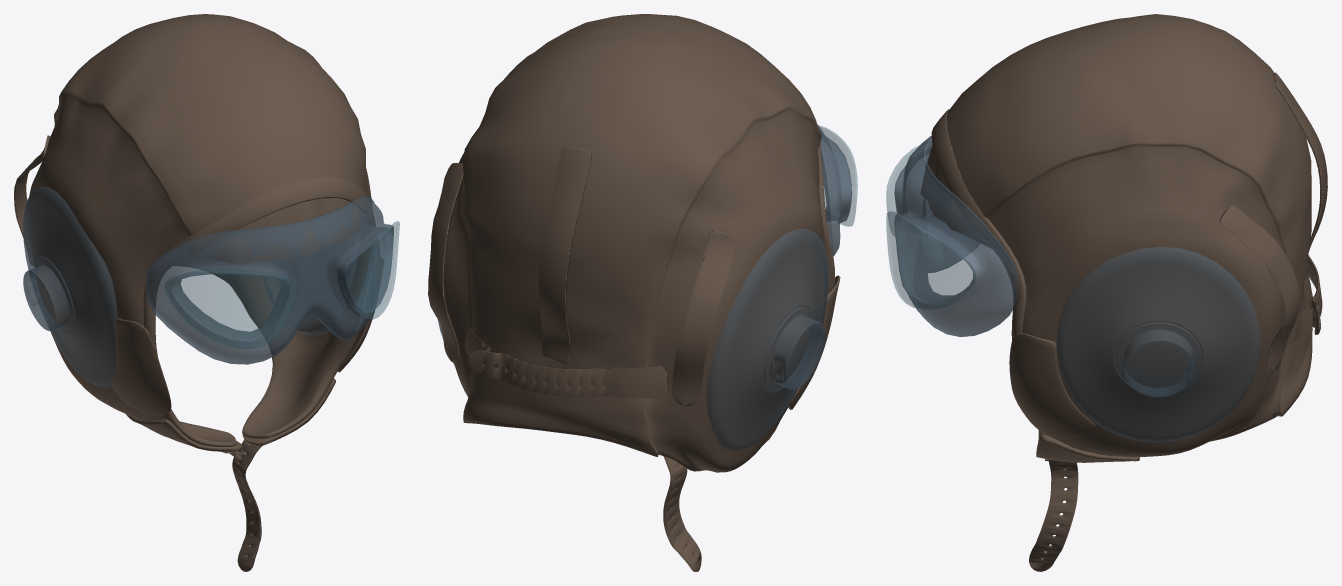
File: FlightHelmet.runtime.gltf
3 views of the same model, side by side, from view 1: azimuth 30°, elevation 25°; view 2: azimuth 150°, elevation 25°; view 3: azimuth 270°, elevation 25° (orthographic). The views are drawn at different scales.
Parts seen in each view (by area): view 1: HelmetLeather_low, HelmetGlassPlastic_low, HelmetLenses_low; view 2: HelmetLeather_low, HelmetGlassPlastic_low, HelmetLenses_low; view 3: HelmetLeather_low, HelmetGlassPlastic_low, HelmetLenses_low.
Boxes of the visible parts, bbox=[...] form: HelmetLeather_low: bbox=[14, 14, 377, 571]; HelmetGlassPlastic_low: bbox=[23, 186, 393, 387]; HelmetLenses_low: bbox=[164, 221, 399, 348]; HelmetLeather_low: bbox=[428, 14, 840, 571]; HelmetGlassPlastic_low: bbox=[437, 124, 851, 451]; HelmetLenses_low: bbox=[818, 125, 857, 226]; HelmetLeather_low: bbox=[920, 14, 1327, 571]; HelmetGlassPlastic_low: bbox=[894, 136, 1260, 442]; HelmetLenses_low: bbox=[886, 145, 975, 309].
Size of the model in its own units: 0.2813 by 0.4202 by 0.3071.
